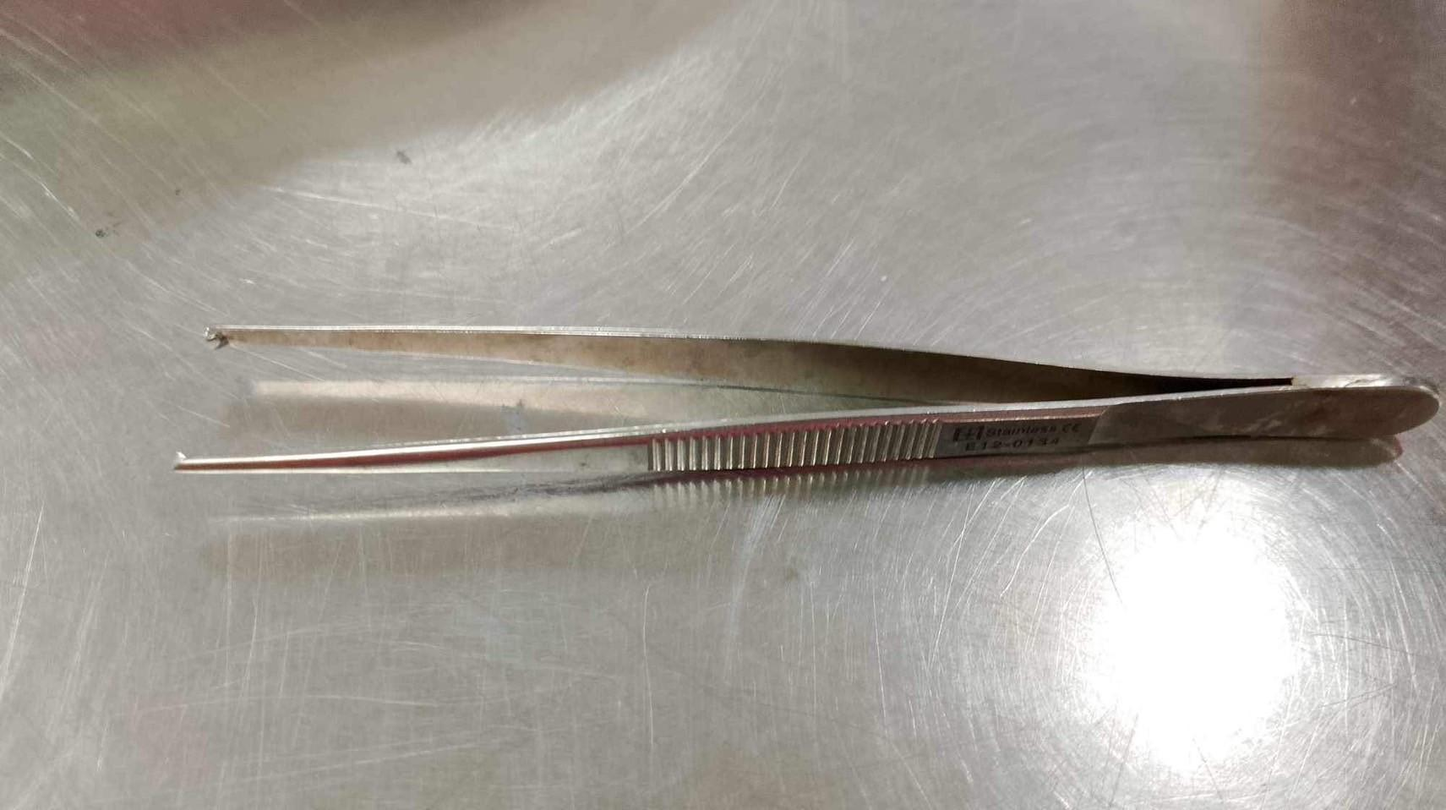Pathological: (6, 4, 1438, 804)
Sharps: (172, 371, 1439, 480)
